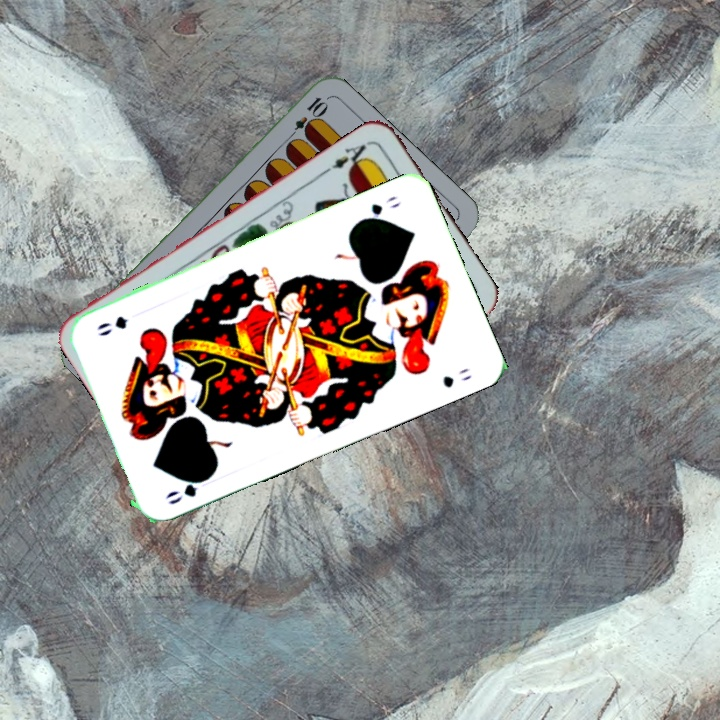E10: (283, 93, 330, 144)
EA: (321, 137, 374, 175)
GO: (353, 192, 404, 226), (161, 474, 211, 508)
